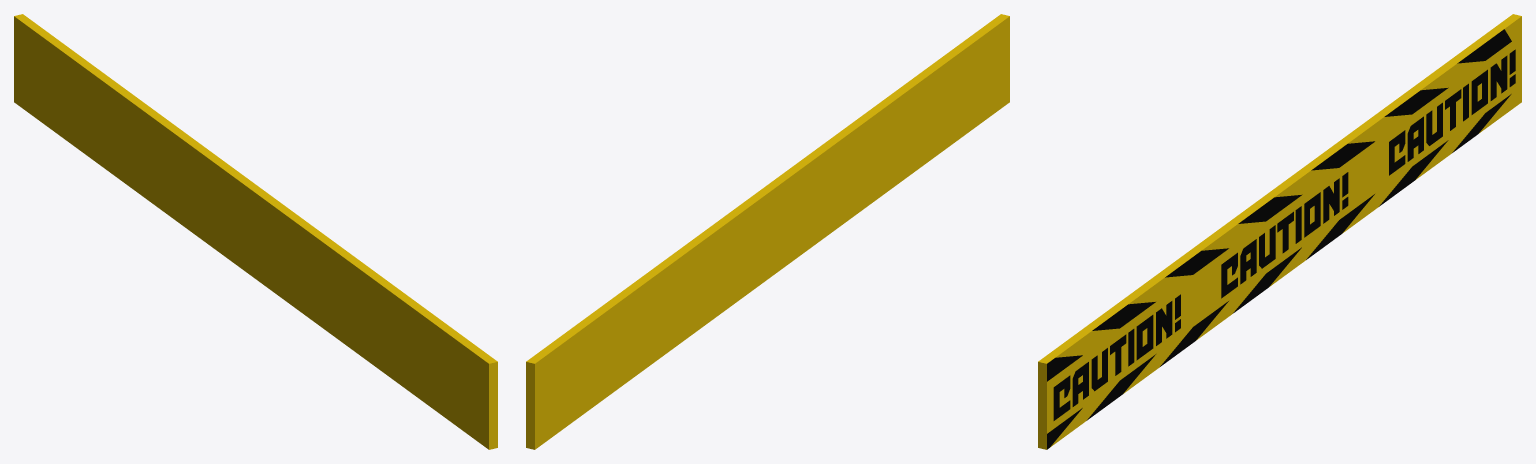
Rendered from caution.fbx.
The picture shows the model from 3 angles, left to right: view 1: azimuth 30°, elevation 25°; view 2: azimuth 150°, elevation 25°; view 3: azimuth 330°, elevation 25°; orthographic projection.
Parts seen in each view (by area): view 1: Cube; view 2: Cube; view 3: Cube, Text.
Boxes of the visible parts, x1,y1,x2,y2 form: Cube: (14,14,497,449); Cube: (526,14,1009,449); Cube: (1038,14,1521,449); Text: (1053,49,1515,420).
Size of the model in its own units: 22.29 by 200 by 2001.
